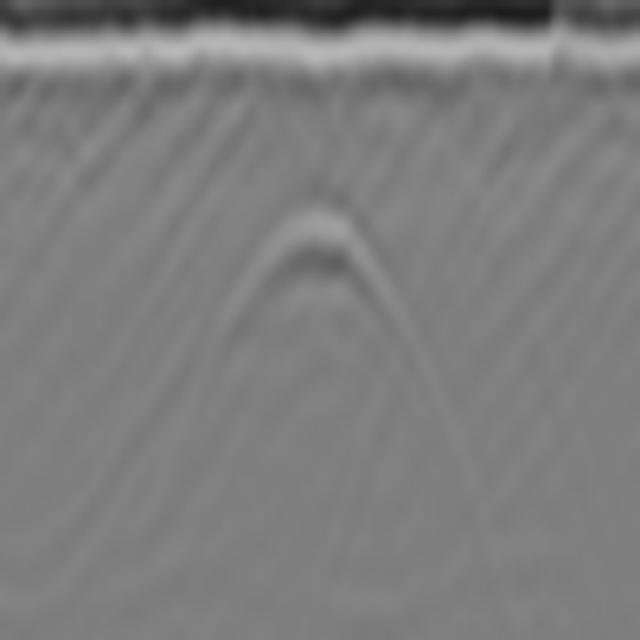hyperbola: (206, 198, 437, 422)
